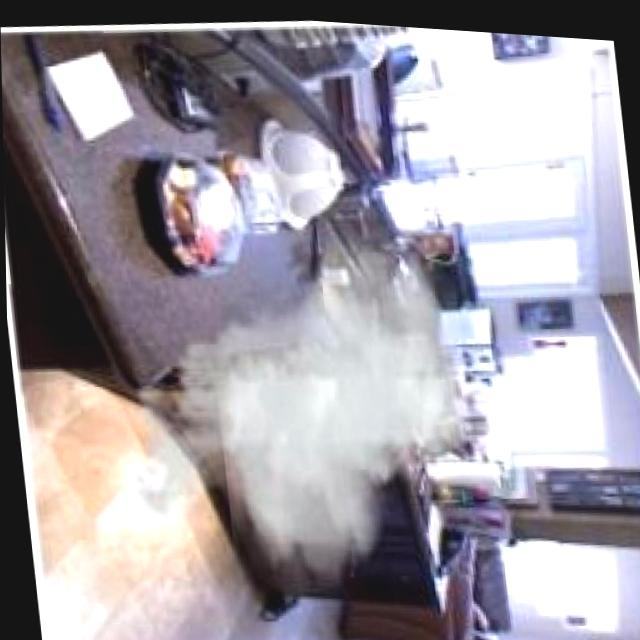Smoke: (91, 198, 487, 614)
